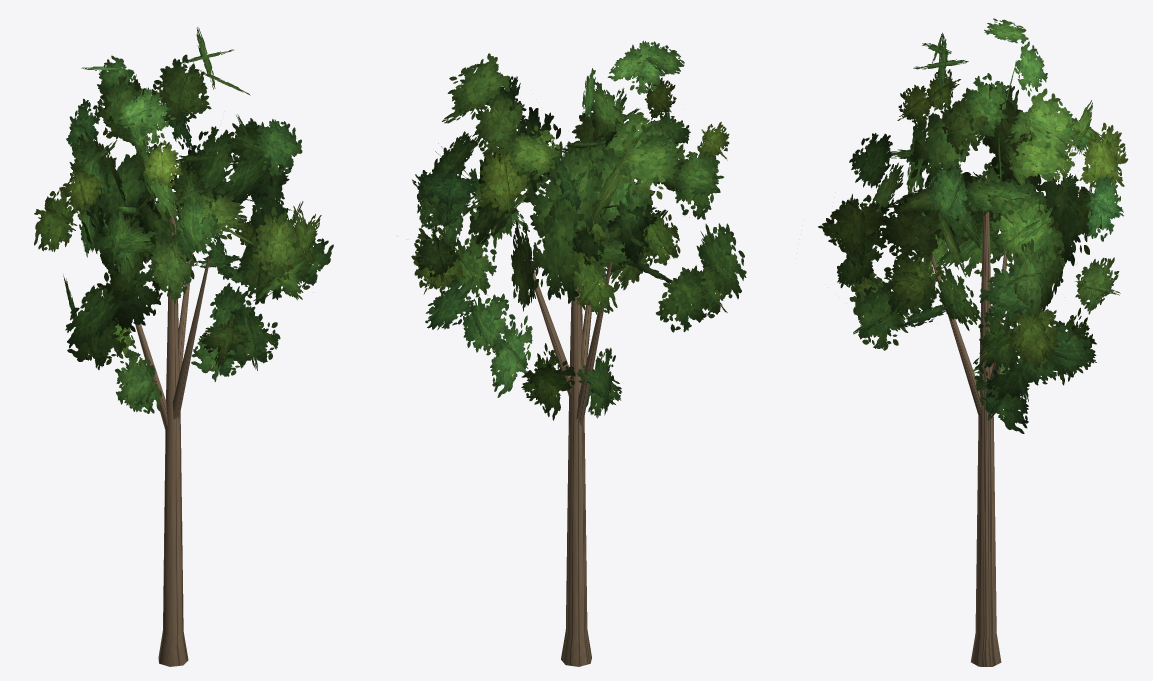
3 views of the same model, side by side, from view 1: azimuth 30°, elevation 25°; view 2: azimuth 150°, elevation 25°; view 3: azimuth 270°, elevation 25° (orthographic). The views are drawn at different scales.
Visible parts, largest first — view 1: tree_8893; view 2: tree_8893; view 3: tree_8893.
Boxes of the visible parts, x1,y1,x2,y2 form: tree_8893: (34, 27, 333, 666); tree_8893: (411, 40, 746, 666); tree_8893: (818, 18, 1128, 666).
Bounding box in the file's own units: 5.6 × 10.89 × 5.42.
1 material, 1 textured.
